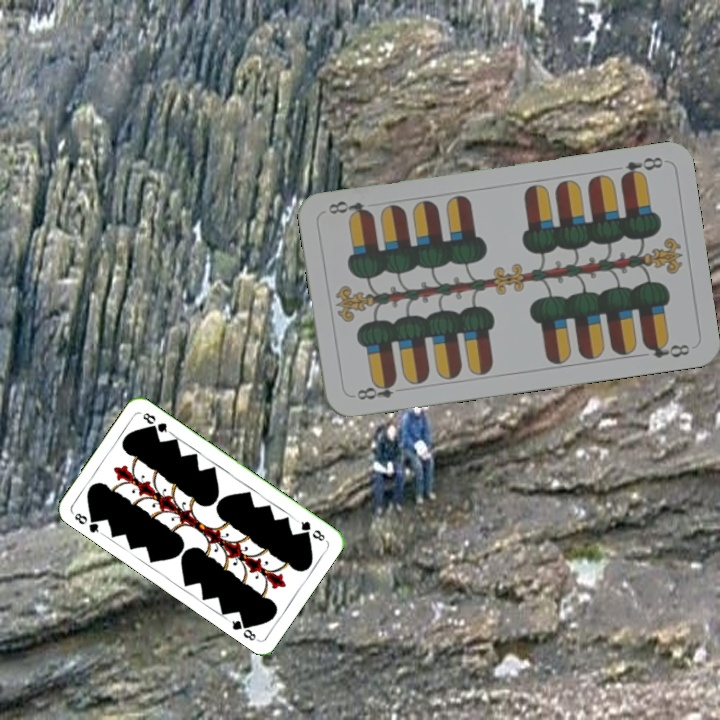E8: (616, 152, 666, 182), (352, 376, 399, 402)
G8: (69, 509, 105, 537), (297, 517, 328, 544)
